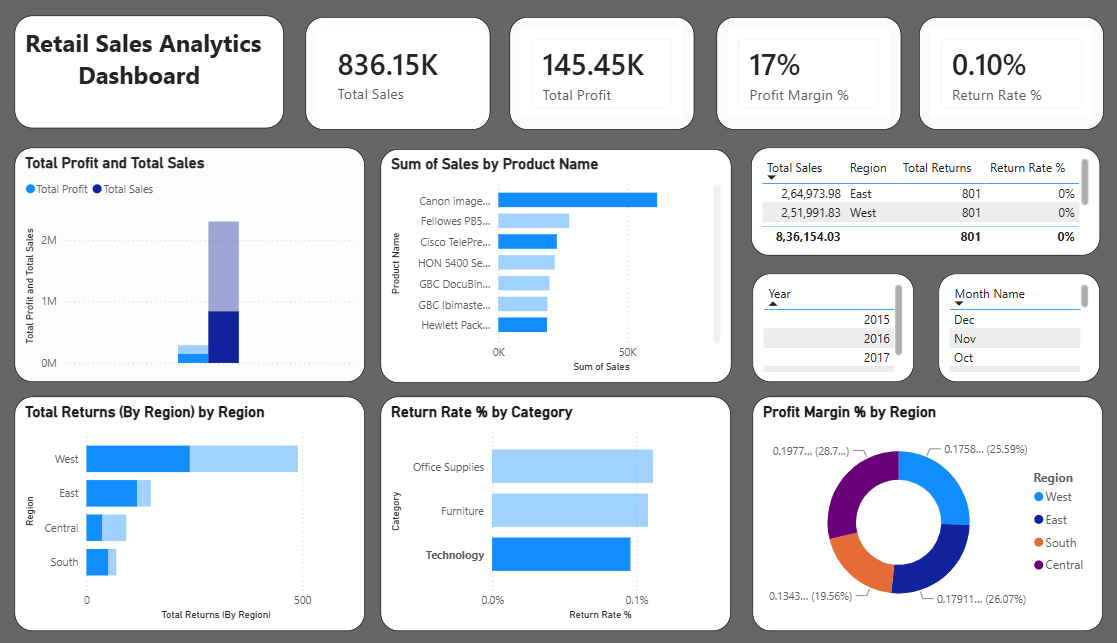

What the dashboard file says about the page in this screenshot:
{"tool":"powerbi","page":{"name":"Page 1","canvas":[1280,720],"ordinal":0},"visuals":[{"type":"clusteredBarChart","title":"Total Returns by Region","fields":{"Category":["Fact_Sales.Region"],"Y":["Fact_Returns.Total Returns (By Region)"]},"box":[0,446.6,404.9,260.2],"z":0},{"type":"tableEx","fields":{"Values":["Fact_Sales.Region","Dim_RegionManager.Total Sales","Fact_Returns.Total Returns (By Region)","Dim_RegionManager.Return Rate %"]},"box":[855.8,143.1,388.1,154.3],"z":1000},{"type":"card","title":"Total Sales","fields":{"Values":["Dim_RegionManager.Total Sales"]},"box":[383.1,18.7,210.2,105.7],"z":2000},{"type":"card","title":"Total Profit","fields":{"Values":["Fact_Sales.Total Profit"]},"box":[609.5,19.9,210.2,104.5],"z":3000},{"type":"card","title":"Profit Margin","fields":{"Values":["Fact_Sales.Profit Margin %"]},"box":[839.7,18.7,210.2,104.5],"z":4000},{"type":"card","title":"Return Rate","fields":{"Values":["Dim_RegionManager.Return Rate %"]},"box":[1058.6,18.7,210.2,105.7],"z":5000},{"type":"clusteredColumnChart","title":"Sales vs Profit by Region","fields":{"Category":["Fact_Sales.Region"],"Y":["Sum(Fact_Sales.Sales)","Sum(Fact_Sales.Profit)"]},"box":[428.5,178.1,404.9,258.8],"z":6000},{"type":"clusteredBarChart","title":"Return Rate by Category","fields":{"Category":["Fact_Sales.Category"],"Y":["Dim_RegionManager.Return Rate %"]},"box":[428.5,448,404.9,260.2],"z":7000},{"type":"lineClusteredColumnComboChart","title":"Sales & Profit by Month","fields":{"Category":["Dim_Date.Month Name"],"Y":["Dim_RegionManager.Total Sales"],"Y2":["Fact_Sales.Total Profit"]},"box":[0,176.7,404.9,260.2],"z":8000},{"type":"textbox","title":"Excecutive Sales Performance ","box":[0,0,367,159.2],"z":9000},{"type":"clusteredBarChart","fields":{"Y":["Fact_Sales.Profit Margin %"],"Category":["Fact_Sales.Region"]},"box":[855.7,448,404.9,258.8],"z":10000},{"type":"textbox","title":"Key Insights","box":[855.8,312.2,202.8,121.9],"z":11000},{"type":"listSlicer","fields":{"Values":["Dim_Date.Year"]},"box":[1082.2,308.5,70.9,139.3],"z":12000},{"type":"listSlicer","title":"Month ","fields":{"Values":["Dim_Date.Month Name"]},"box":[1171.8,308.5,72.1,139.3],"z":13000}]}

Visuals, with their boxes in screenshot pixels (x1, y1, x2, y2), scaled from the page's 1280x720 canvas onto the 1117x643 screenshot:
"Total Returns by Region" clusteredBarChart: box=[0, 399, 353, 631]
tableEx - Fact_Sales.Region x Dim_RegionManager.Total Sales: box=[747, 128, 1085, 266]
"Total Sales" card: box=[334, 17, 518, 111]
"Total Profit" card: box=[532, 18, 715, 111]
"Profit Margin" card: box=[733, 17, 916, 110]
"Return Rate" card: box=[924, 17, 1107, 111]
"Sales vs Profit by Region" clusteredColumnChart: box=[374, 159, 727, 390]
"Return Rate by Category" clusteredBarChart: box=[374, 400, 727, 632]
"Sales & Profit by Month" lineClusteredColumnComboChart: box=[0, 158, 353, 390]
"Excecutive Sales Performance " textbox: box=[0, 0, 320, 142]
clusteredBarChart - Fact_Sales.Profit Margin % x Fact_Sales.Region: box=[747, 400, 1100, 631]
"Key Insights" textbox: box=[747, 279, 924, 388]
listSlicer - Dim_Date.Year: box=[944, 276, 1006, 400]
"Month " listSlicer: box=[1023, 276, 1085, 400]
